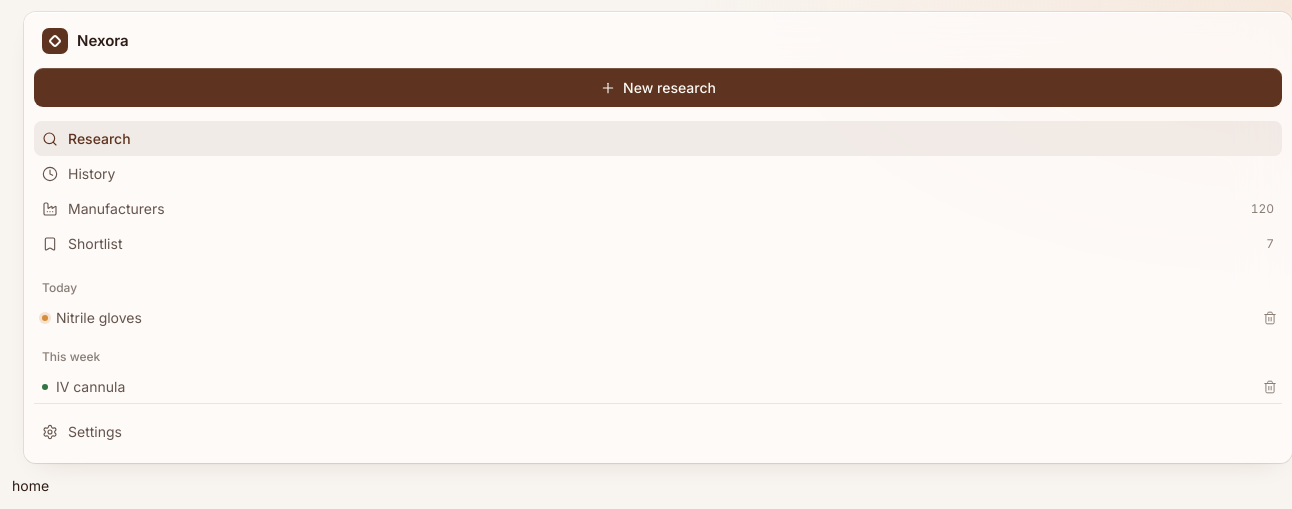
Test case: Sidebar delete › cancel does nothing
Click the button named "Delete Nitrile gloves" at (1270, 318), box x1=1258 y1=306 x2=1282 y2=330
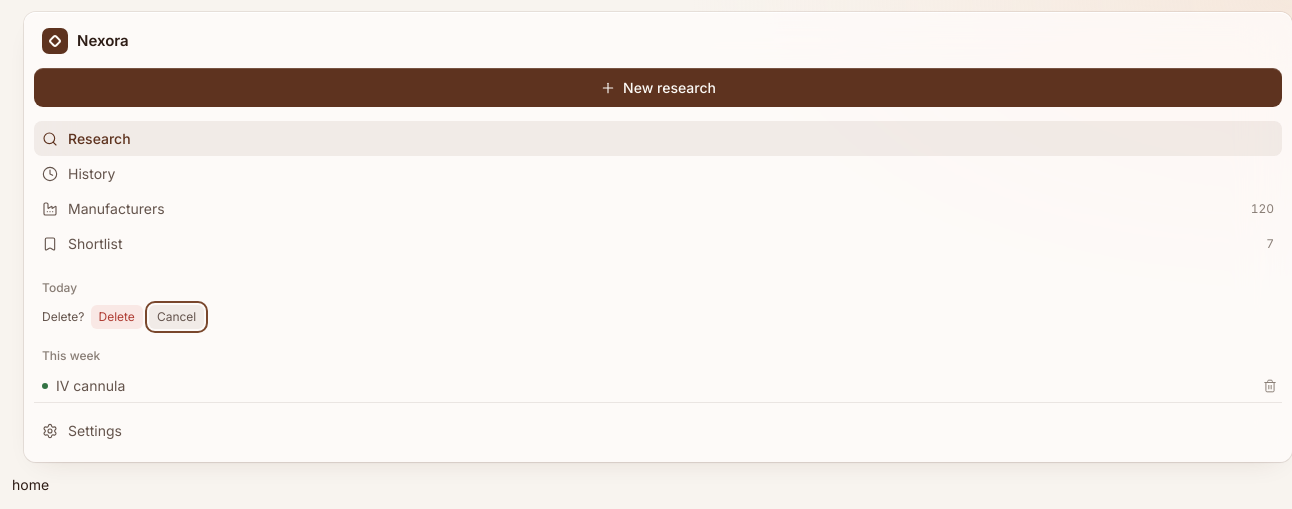
Click the button "Cancel" at (177, 317), box x1=149 y1=305 x2=204 y2=329
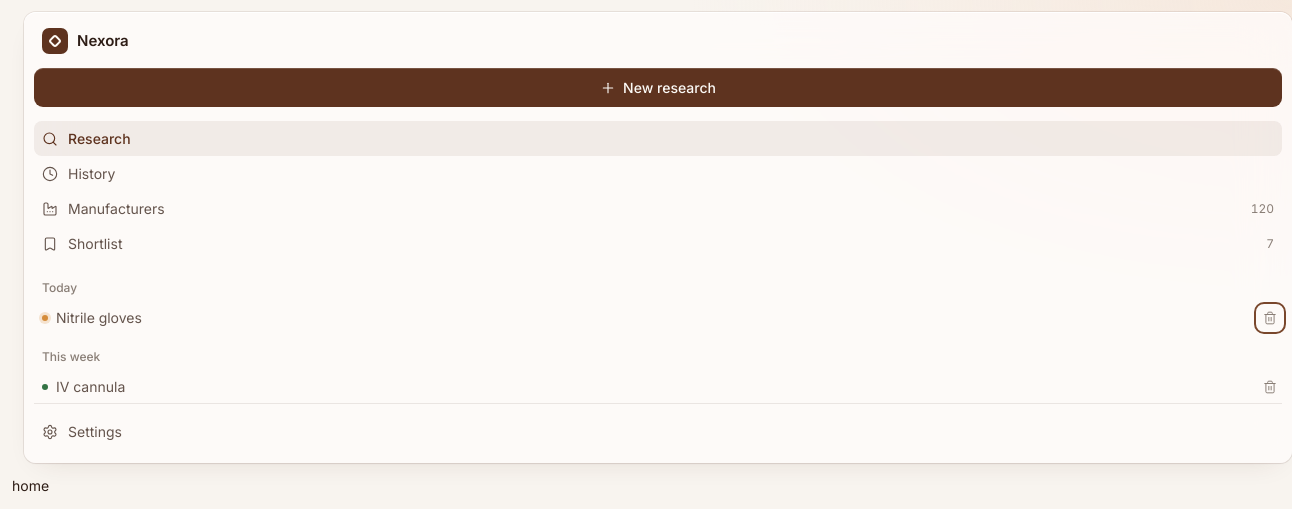
Result: the link "Nitrile gloves" is shown at x1=42 y1=309 x2=142 y2=326
